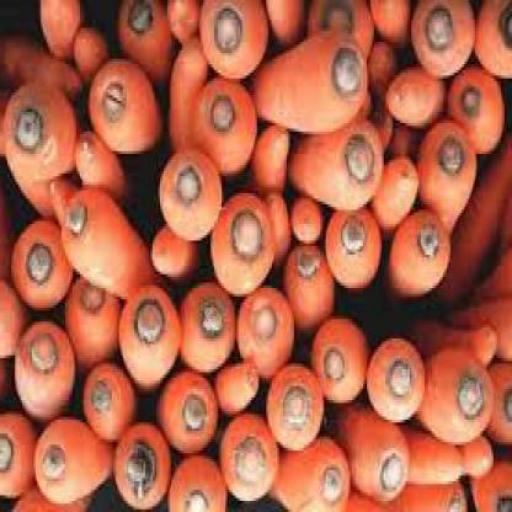biodegradable: (430, 132, 512, 316), (253, 31, 371, 143), (66, 193, 178, 302), (9, 81, 81, 222), (290, 112, 386, 215), (332, 408, 413, 506), (89, 58, 166, 160), (212, 196, 278, 299), (421, 123, 479, 238), (123, 288, 185, 394), (37, 423, 114, 506), (18, 322, 76, 430), (200, 76, 258, 182), (13, 220, 74, 316), (384, 216, 452, 302), (160, 155, 225, 243), (201, 2, 270, 84), (448, 64, 506, 160), (2, 39, 85, 106), (65, 282, 121, 381), (284, 246, 341, 342), (156, 375, 222, 456), (272, 445, 353, 511), (120, 3, 178, 92), (404, 318, 499, 372), (415, 2, 479, 82), (368, 342, 426, 430), (222, 420, 280, 506), (270, 370, 328, 456), (314, 322, 372, 408), (114, 428, 174, 511), (170, 39, 212, 157), (180, 288, 237, 374), (326, 212, 385, 294), (307, 3, 379, 67), (86, 369, 140, 448), (371, 160, 422, 238), (76, 131, 128, 207), (402, 431, 467, 490), (448, 308, 511, 368), (388, 73, 446, 134), (246, 126, 294, 199), (346, 484, 470, 512), (152, 232, 209, 289), (2, 414, 39, 500), (41, 3, 86, 65), (477, 2, 511, 84), (172, 462, 228, 510), (372, 44, 406, 121), (470, 449, 511, 511), (220, 360, 262, 420), (370, 3, 415, 59), (2, 280, 34, 358), (268, 191, 296, 277), (265, 3, 309, 56), (76, 22, 116, 79), (486, 366, 511, 452), (289, 198, 328, 246), (12, 492, 100, 511), (50, 179, 78, 238), (479, 257, 511, 305), (371, 106, 398, 162), (169, 3, 201, 50), (462, 442, 499, 481), (2, 191, 16, 279), (2, 80, 13, 160), (2, 366, 15, 408), (501, 204, 511, 258)
